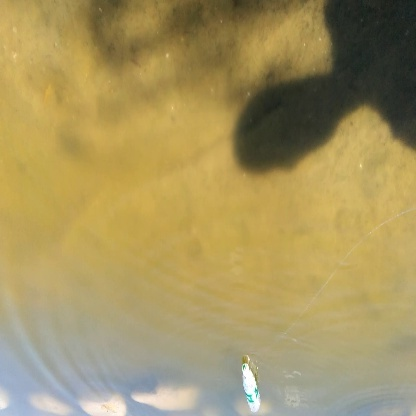bottle: (233, 358, 269, 413)
